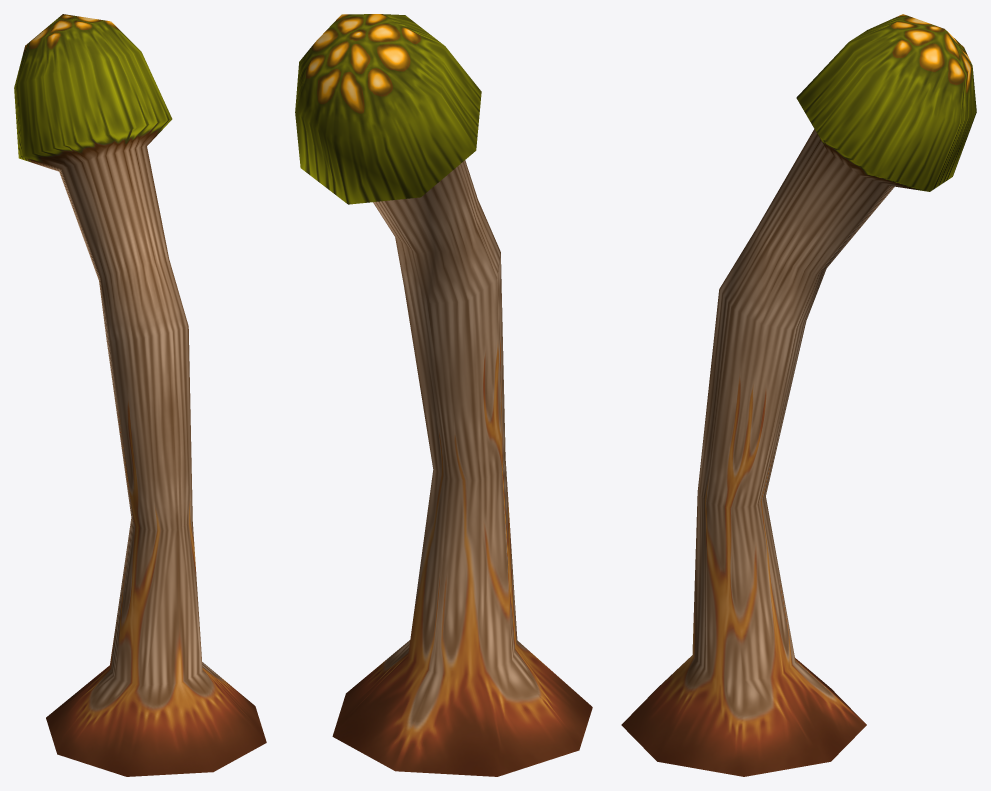
The model's file is Mushroom_001f.fbx.
3 views of the same model, side by side, from view 1: azimuth 30°, elevation 25°; view 2: azimuth 150°, elevation 25°; view 3: azimuth 270°, elevation 25° (orthographic). The views are drawn at different scales.
Visible parts, largest first — view 1: Mesh; view 2: Mesh; view 3: Mesh.
Part boxes in pixels (<box>): Mesh: <box>14,14,266,776</box>; Mesh: <box>295,14,592,776</box>; Mesh: <box>621,14,976,776</box>.
Bounding box in the file's own units: 52.65 × 166 × 76.16.
